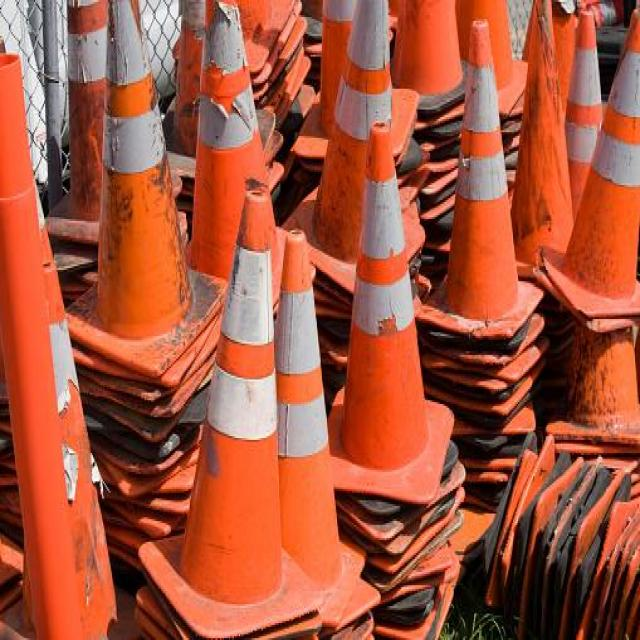Cone: (166, 190, 318, 626), (59, 2, 219, 370), (324, 121, 446, 506), (432, 17, 540, 351)
